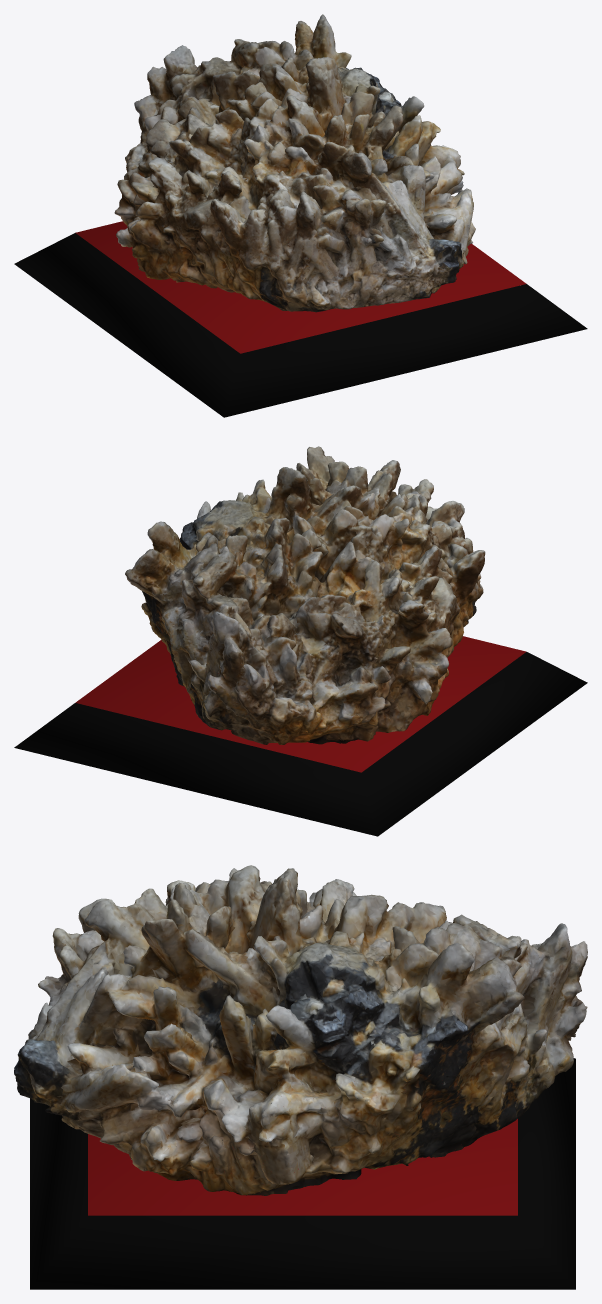
File: Danburita.glb
3 views of the same model, one above another, from view 1: azimuth 30°, elevation 25°; view 2: azimuth 150°, elevation 25°; view 3: azimuth 270°, elevation 25° (orthographic). The views are drawn at different scales.
Parts seen in each view (by area): view 1: texturedMesh; view 2: texturedMesh; view 3: texturedMesh.
Part boxes in pixels (x1,y1,x2,y2): texturedMesh: (14, 14, 587, 417); texturedMesh: (14, 446, 587, 836); texturedMesh: (14, 865, 587, 1289).
Size of the model in its own units: 12.9 by 8.1 by 13.56.
Materials: 5 (3 with a texture image).
